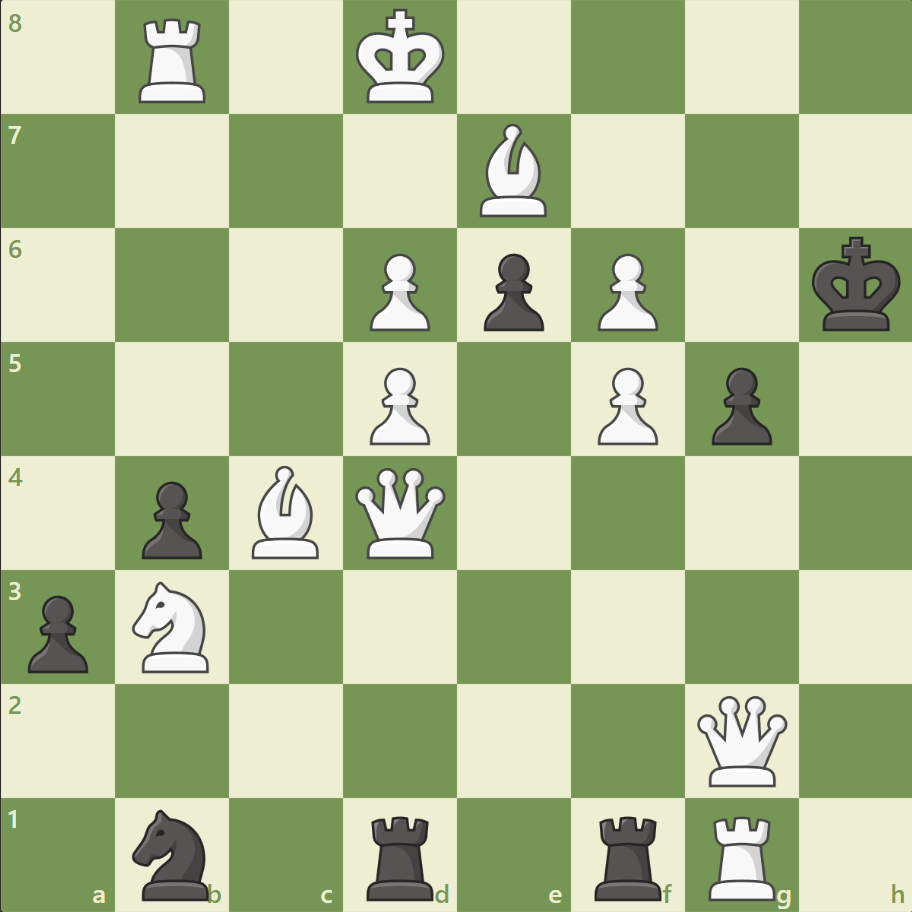B: (244, 460, 328, 563), (471, 120, 555, 222)
K: (351, 4, 451, 112)
N: (124, 575, 222, 677)
P: (361, 246, 435, 337), (588, 246, 662, 337), (361, 359, 435, 450), (588, 359, 662, 450)
Q: (351, 463, 450, 562), (691, 690, 790, 789)
R: (700, 806, 783, 904), (133, 12, 215, 109)
k: (806, 231, 906, 339)
n: (124, 802, 222, 904)
p: (474, 246, 549, 337), (701, 359, 776, 450), (133, 473, 208, 564), (20, 586, 95, 677)
r: (587, 806, 670, 904), (360, 806, 442, 904)
